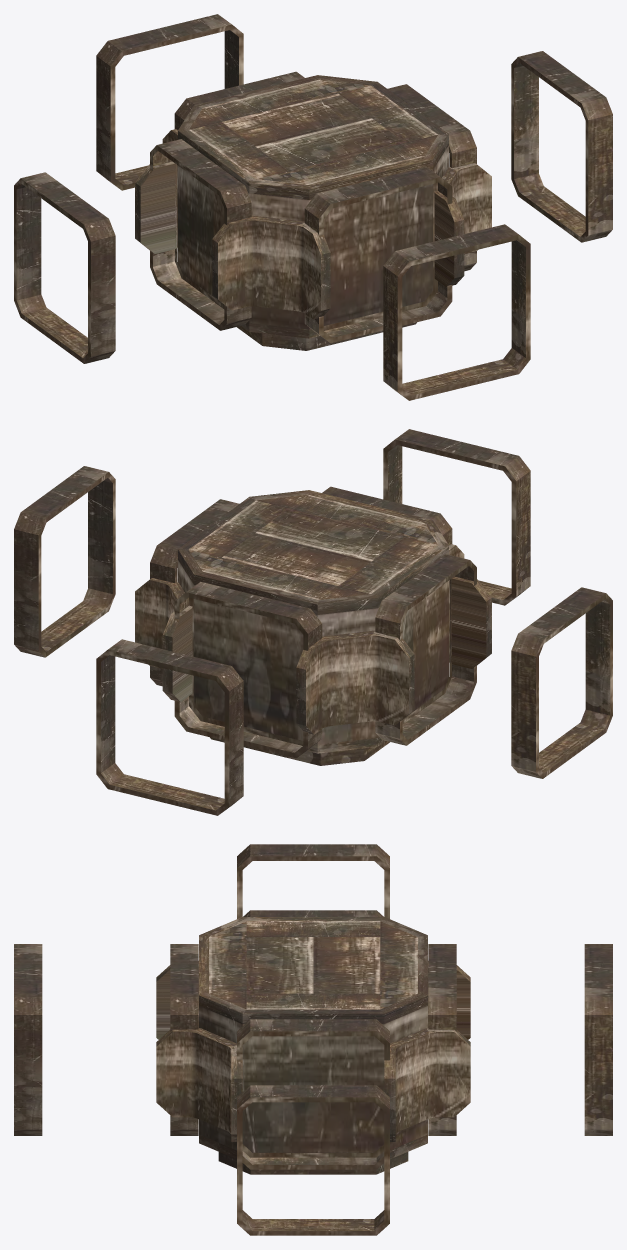
3 renders of one model, top to bottom at view 1: azimuth 30°, elevation 25°; view 2: azimuth 150°, elevation 25°; view 3: azimuth 270°, elevation 25°, orthographic.
Parts seen in each view (by area): view 1: SM_Wooden_Sign_02_LOD0; view 2: SM_Wooden_Sign_02_LOD0; view 3: SM_Wooden_Sign_02_LOD0.
Part boxes in pixels (left/top/right/bottom): SM_Wooden_Sign_02_LOD0: left=14, top=14, right=612, bottom=400; SM_Wooden_Sign_02_LOD0: left=14, top=429, right=612, bottom=815; SM_Wooden_Sign_02_LOD0: left=14, top=844, right=612, bottom=1235.
Bounding box in the file's own units: 4.22 × 1.32 × 4.22.
